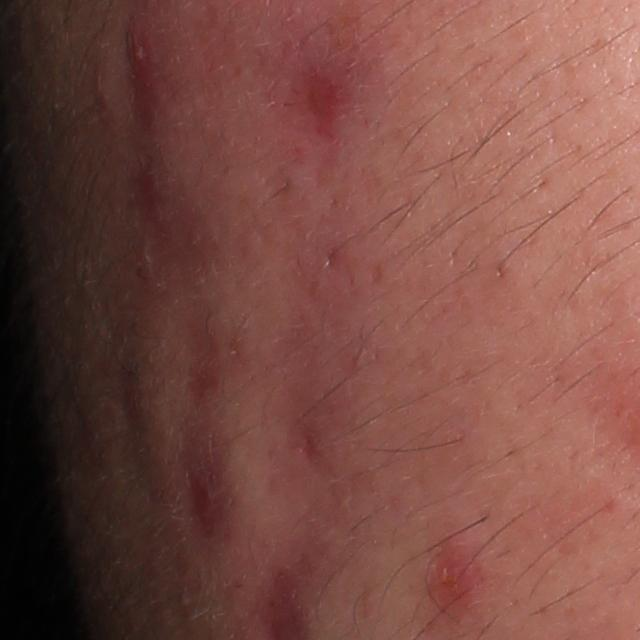papule: (118, 11, 171, 136), (424, 530, 500, 617)
